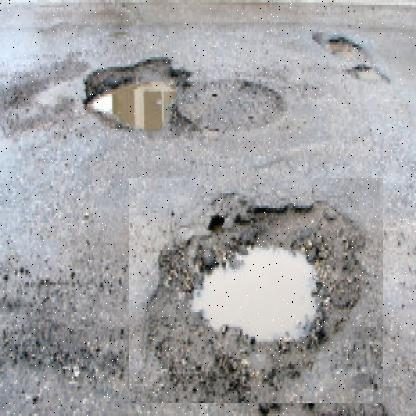pothole_water: (129, 178, 384, 404), (74, 27, 202, 154)
